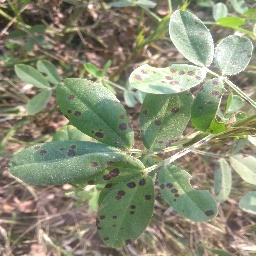GroundNut_Leaf: (6, 145, 139, 189), (55, 77, 131, 142), (88, 185, 157, 246), (160, 166, 219, 223), (166, 6, 214, 68), (138, 94, 190, 147), (217, 32, 254, 80), (13, 62, 51, 90), (227, 151, 256, 184), (217, 15, 245, 31)
